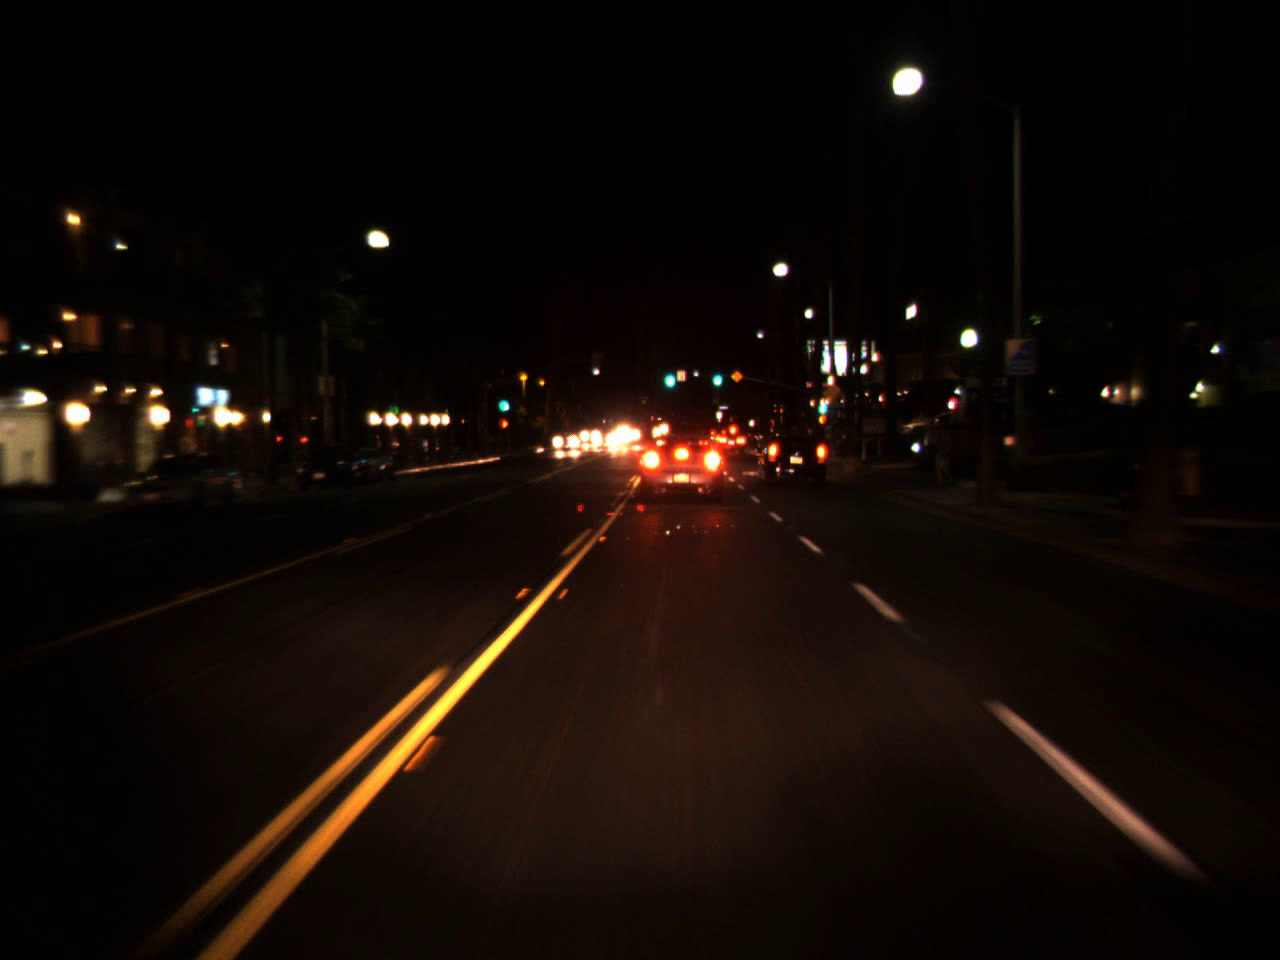go: (660, 357, 678, 393), (496, 388, 508, 415), (710, 367, 724, 385)
